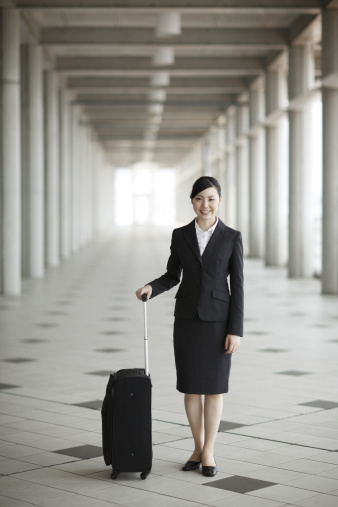em pe: (126, 169, 246, 471)
